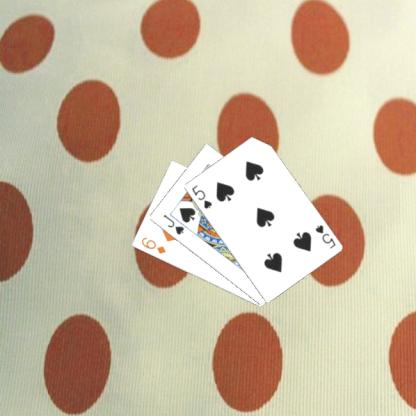5S: (188, 182, 213, 210), (312, 221, 336, 250)
6D: (138, 235, 167, 256)
JS: (160, 211, 186, 236)
